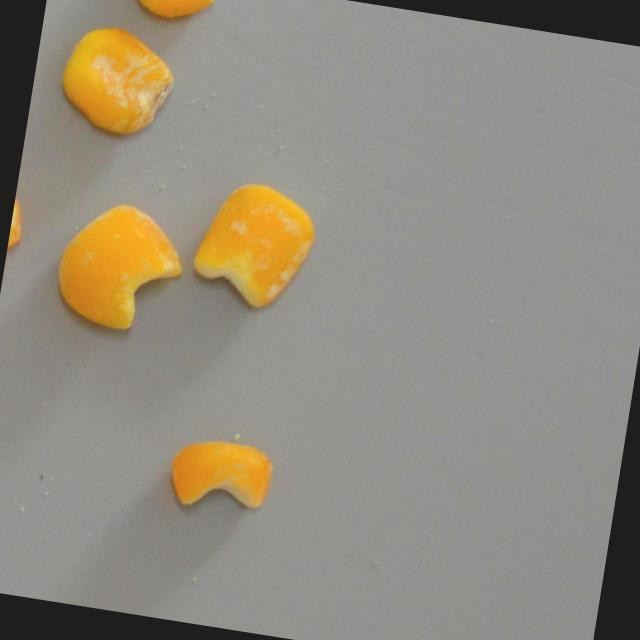dañado: (52, 13, 184, 145)
no_canjicado: (161, 432, 280, 521)
pelicula: (47, 192, 193, 341), (184, 173, 323, 320), (118, 0, 218, 28), (3, 181, 30, 276)
